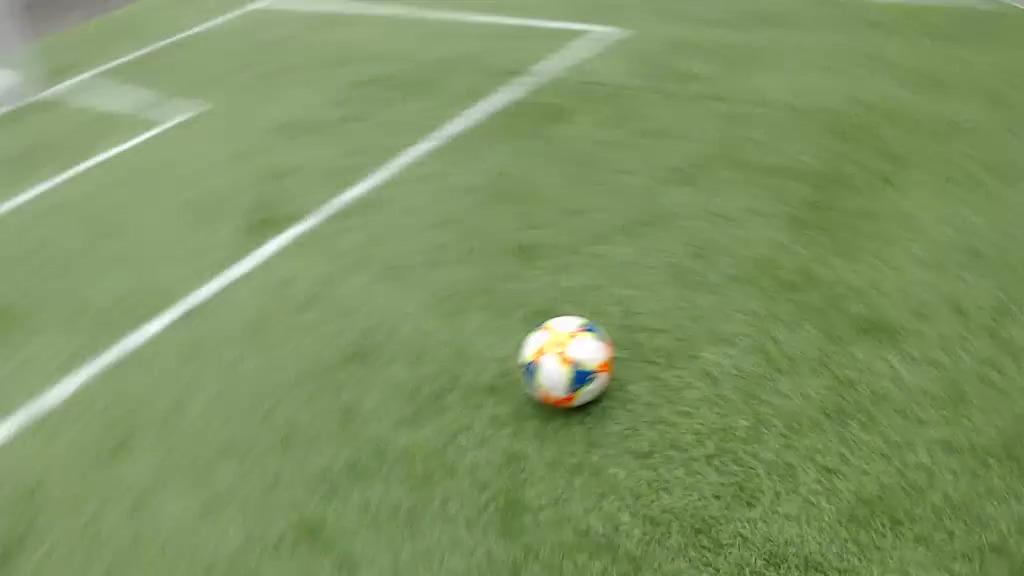ball: (520, 315, 610, 408)
